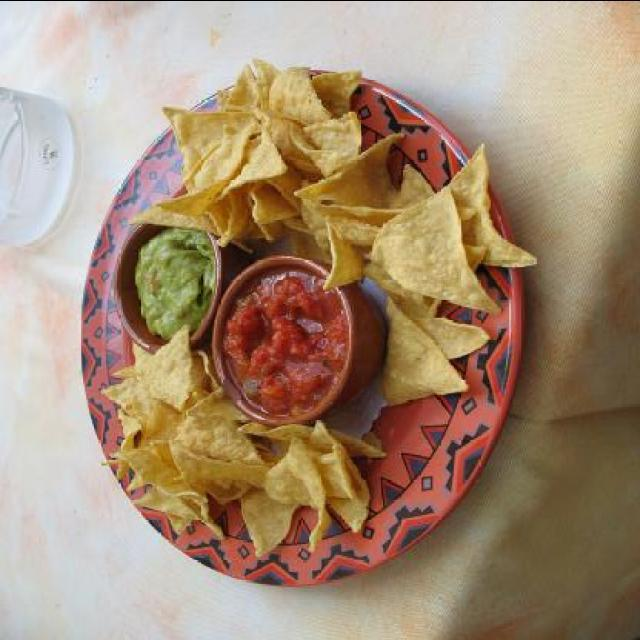Chips packaged: (186, 64, 377, 232), (372, 188, 496, 310), (378, 294, 476, 412), (264, 438, 336, 546), (137, 326, 205, 406), (172, 451, 270, 489)
